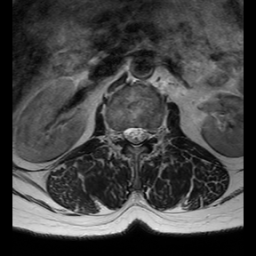CCS_normal: (132, 118, 139, 154)
LFS_normal: (148, 121, 157, 144)
LLS_normal: (139, 120, 148, 146)
RFS_normal: (115, 121, 124, 145)
RLS_normal: (124, 120, 132, 147)
